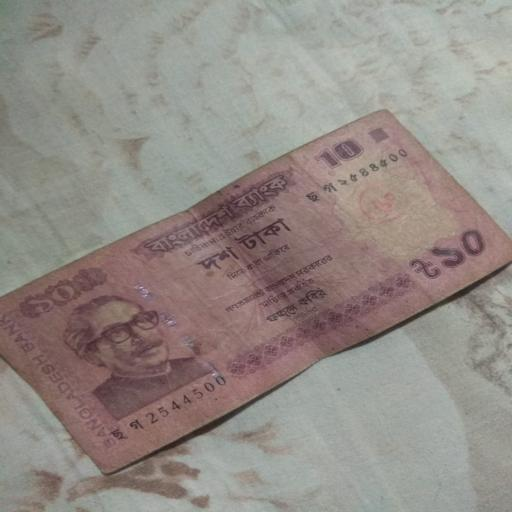10taka: (2, 109, 512, 479)
